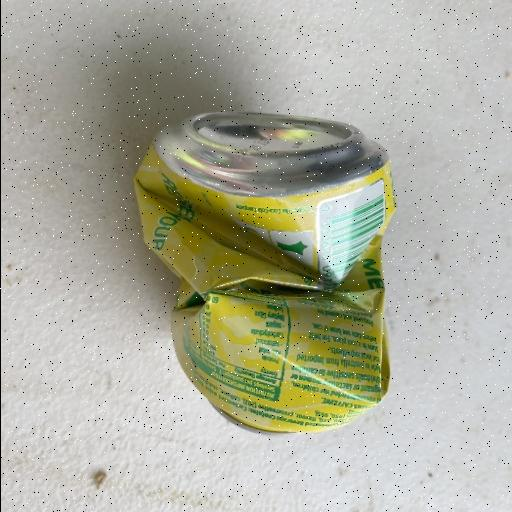Metal: (132, 108, 398, 436)
